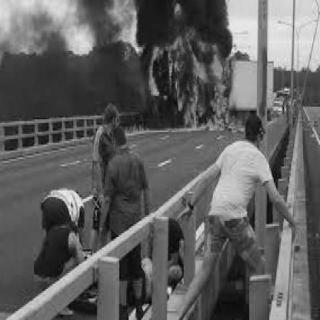Smoke: (134, 0, 236, 60)
